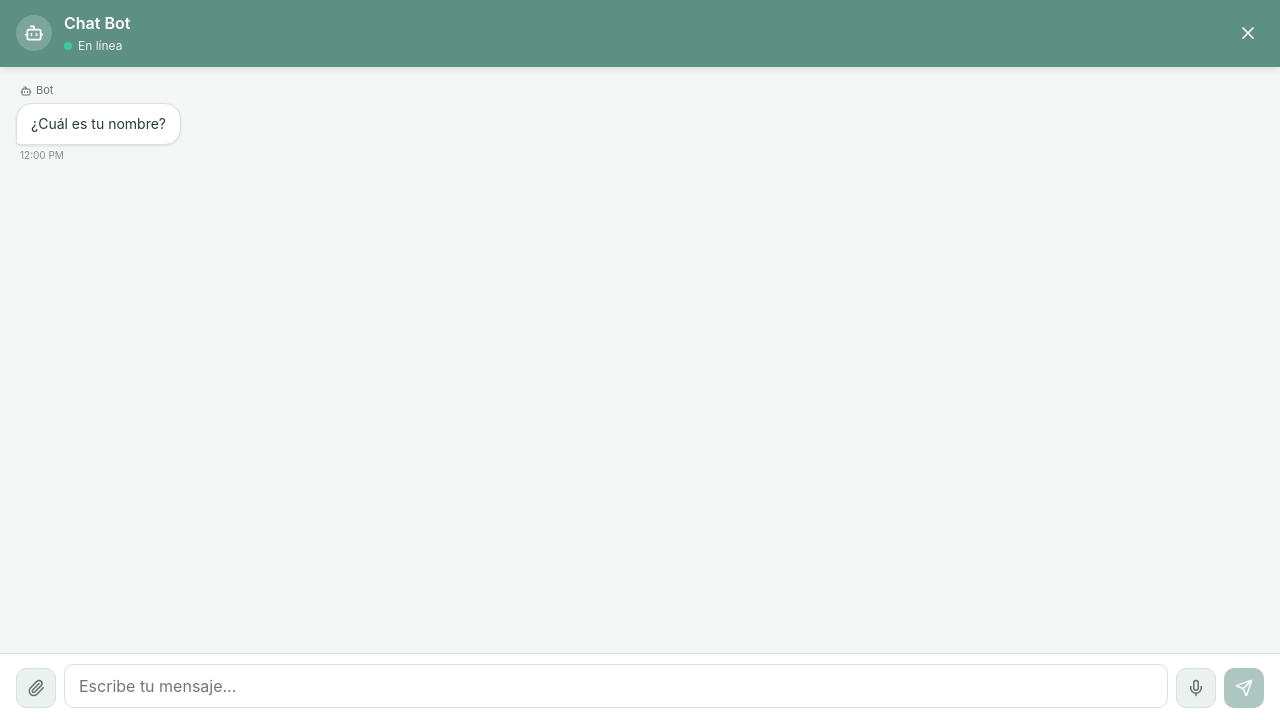
Scenario: WebchatApp Widget › immediately adds bot responses returned by sendMessage endpoint to local state
The width and height of the screenshot is (1280, 720).
Expected: the text "¿Cuál es tu nombre?" is shown, [31,114,166,134]
Type "Carlos" into the text box with placeholder "Escribe tu mensaje...".
click(616, 686); type("Carlos")  # box [64,664,1168,708]
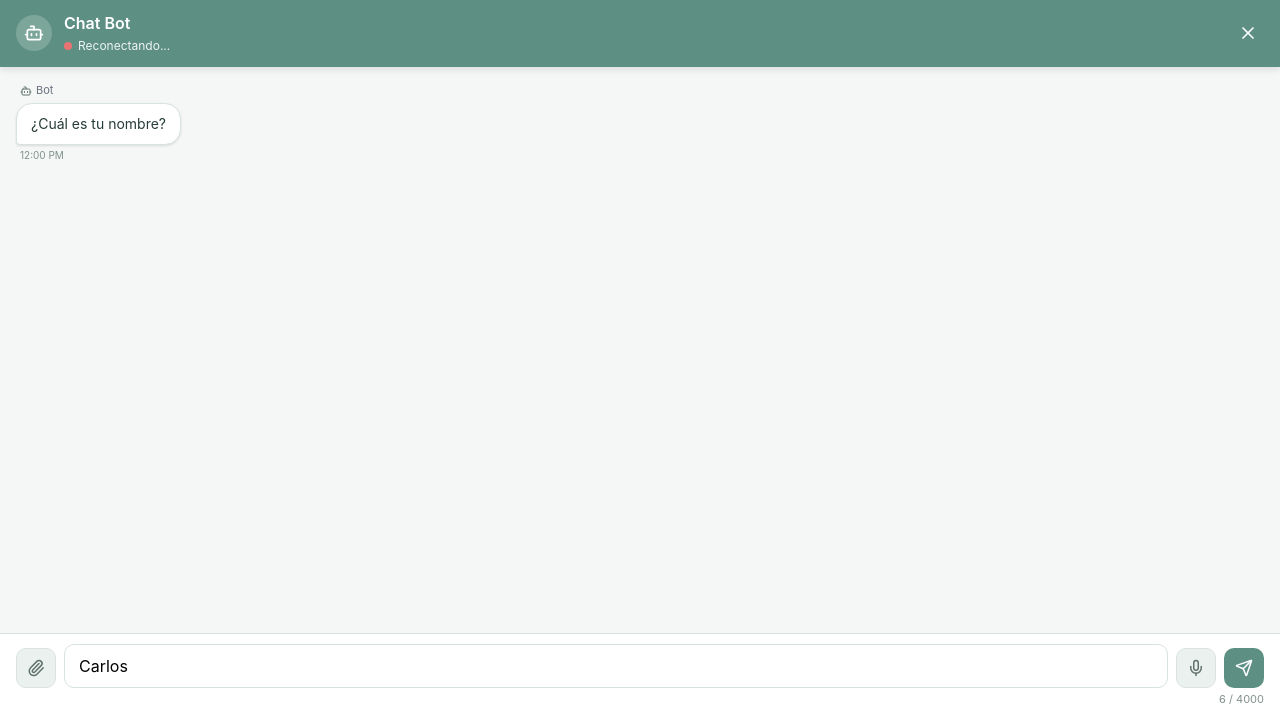
Click the button named "enviar mensaje".
click(1244, 668)  # box [1224,648,1264,688]
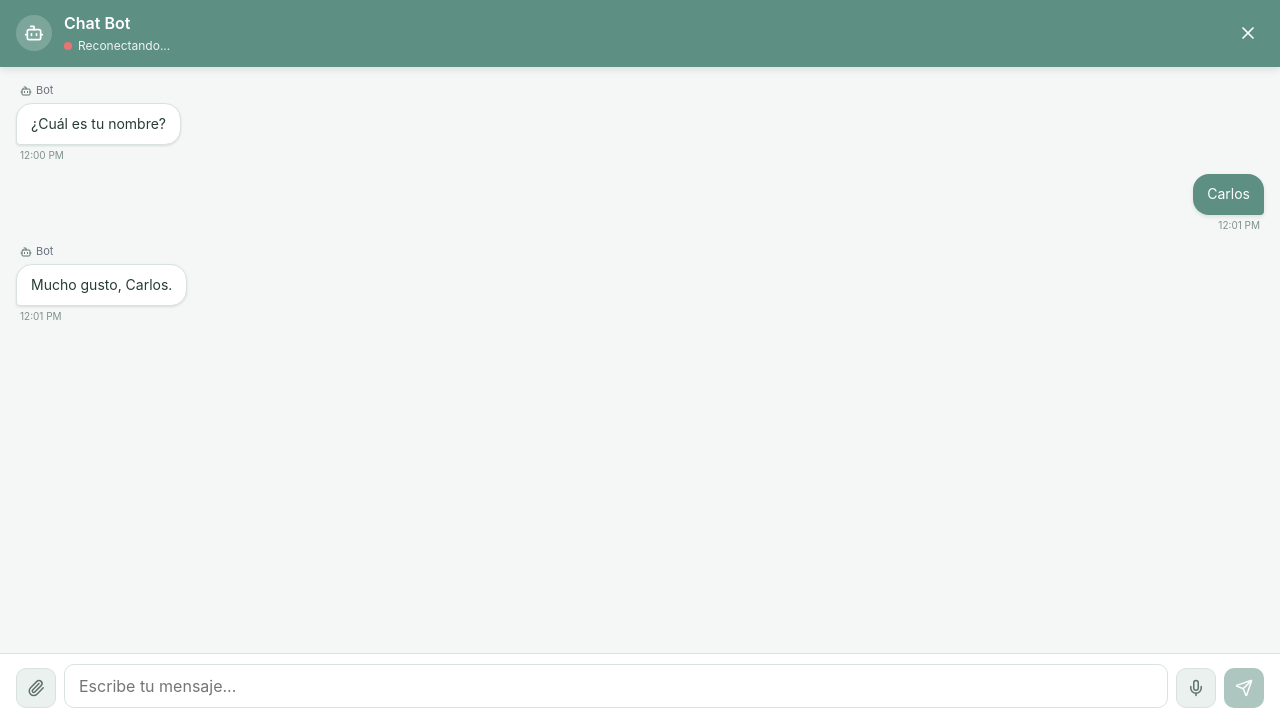
Expected: the text "Mucho gusto, Carlos." is shown, [31,275,172,295]
